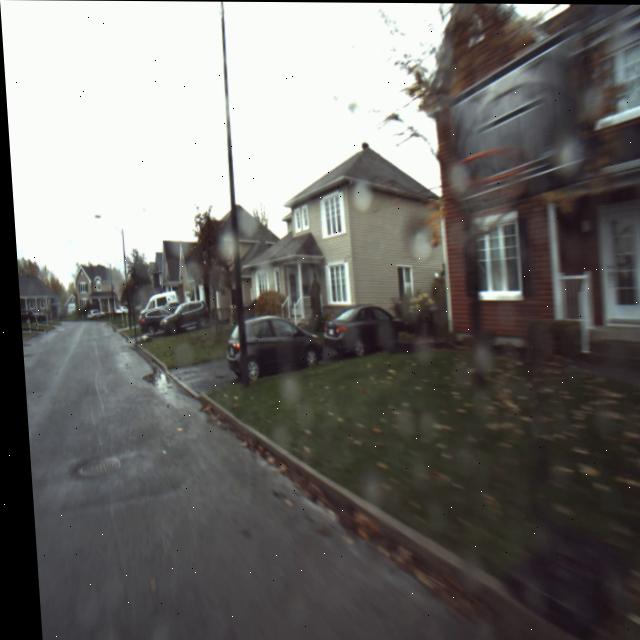car: (219, 304, 319, 380)
